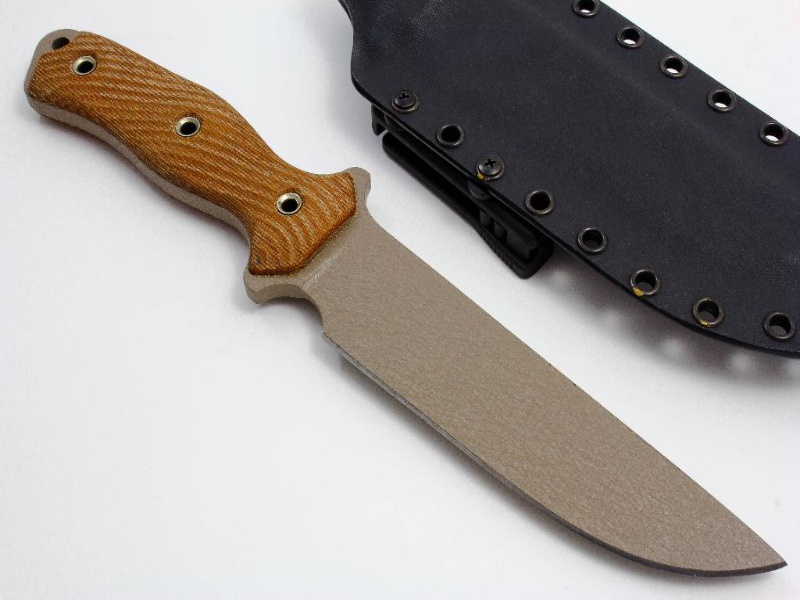knife: (14, 24, 789, 581)
